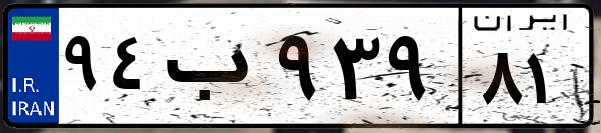1: (525, 38, 570, 115)
3: (330, 28, 385, 110)
4: (110, 28, 158, 98)
8: (475, 38, 525, 113)
9: (270, 28, 330, 110), (385, 28, 445, 110), (57, 26, 110, 100)
ب: (158, 20, 270, 120)
